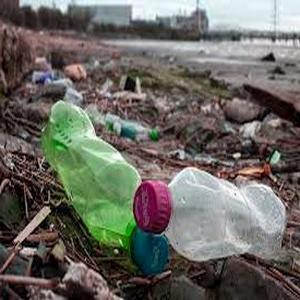Plastic: (135, 167, 289, 264), (109, 112, 159, 145)
